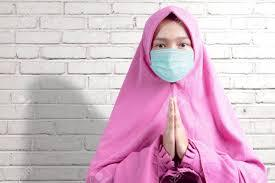Wearing Mask: (142, 5, 205, 87)
